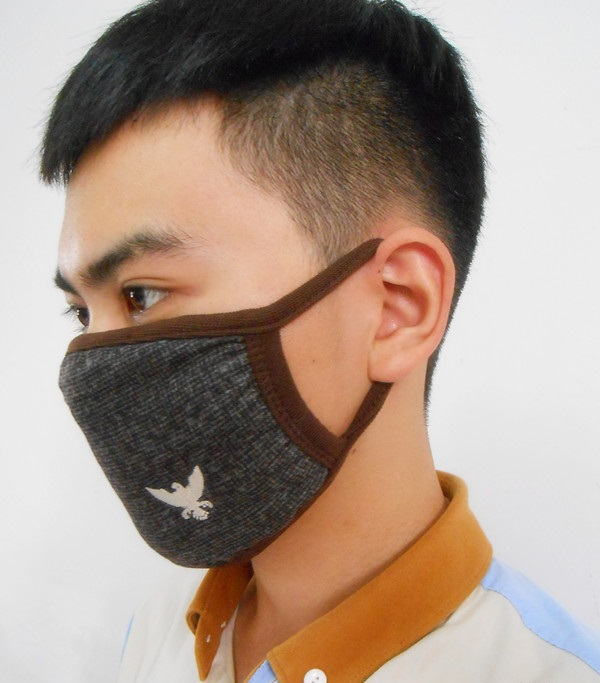face_mask: (52, 106, 336, 560)
